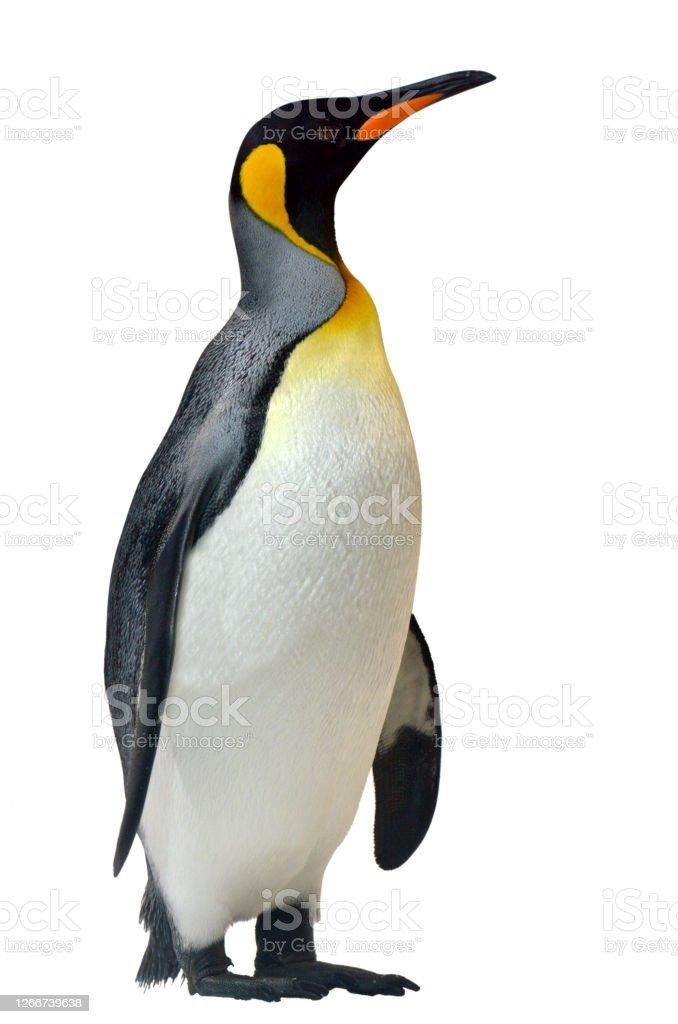king: (47, 42, 512, 1024)
